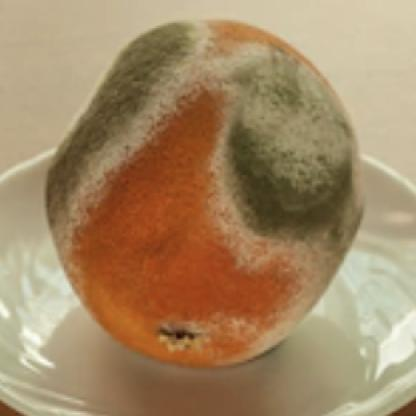rotten: (50, 20, 371, 371)
